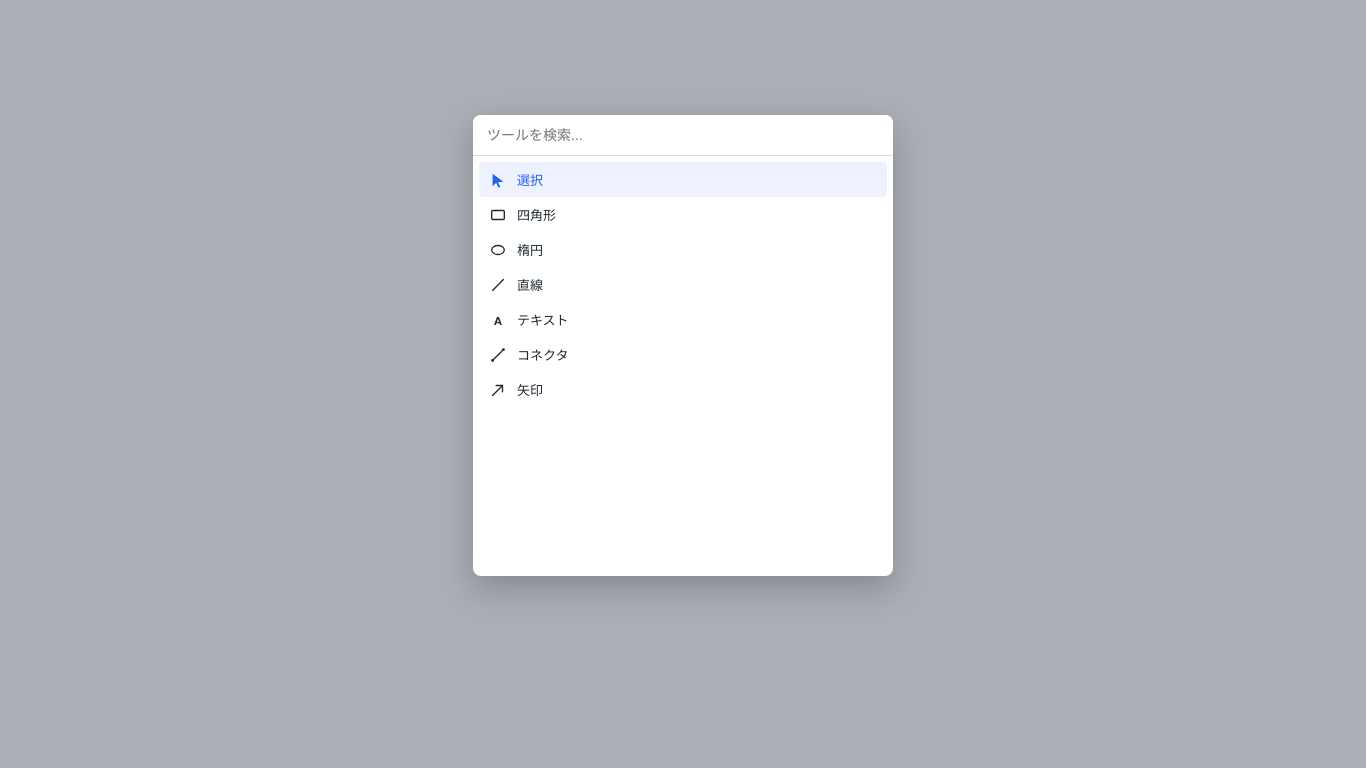
CommandPalette › shows an empty-state message when nothing matches
Type "存在しないツール" into the field with placeholder "ツールを検索..." at (683, 136), box [473,115,893,156]
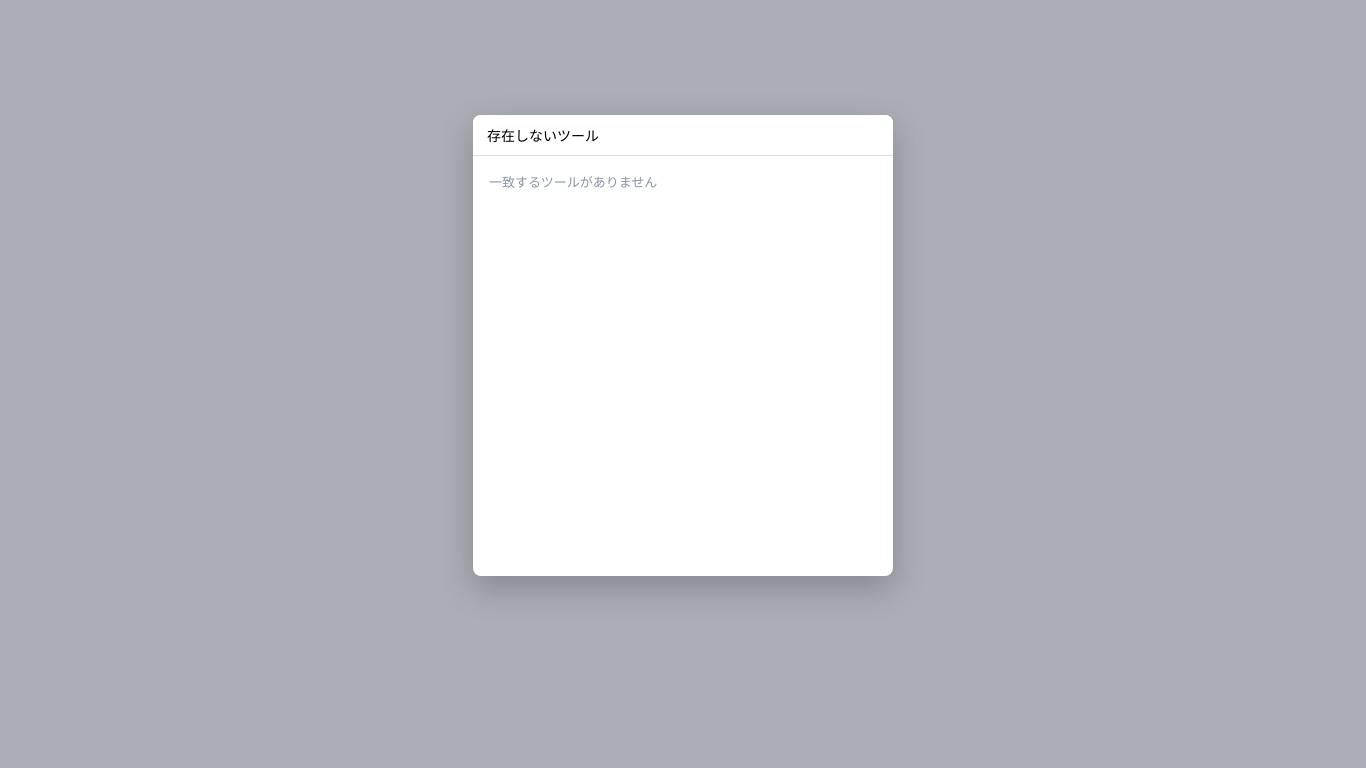
Now the text "一致するツールがありません" is shown, box [489,175,657,190]
